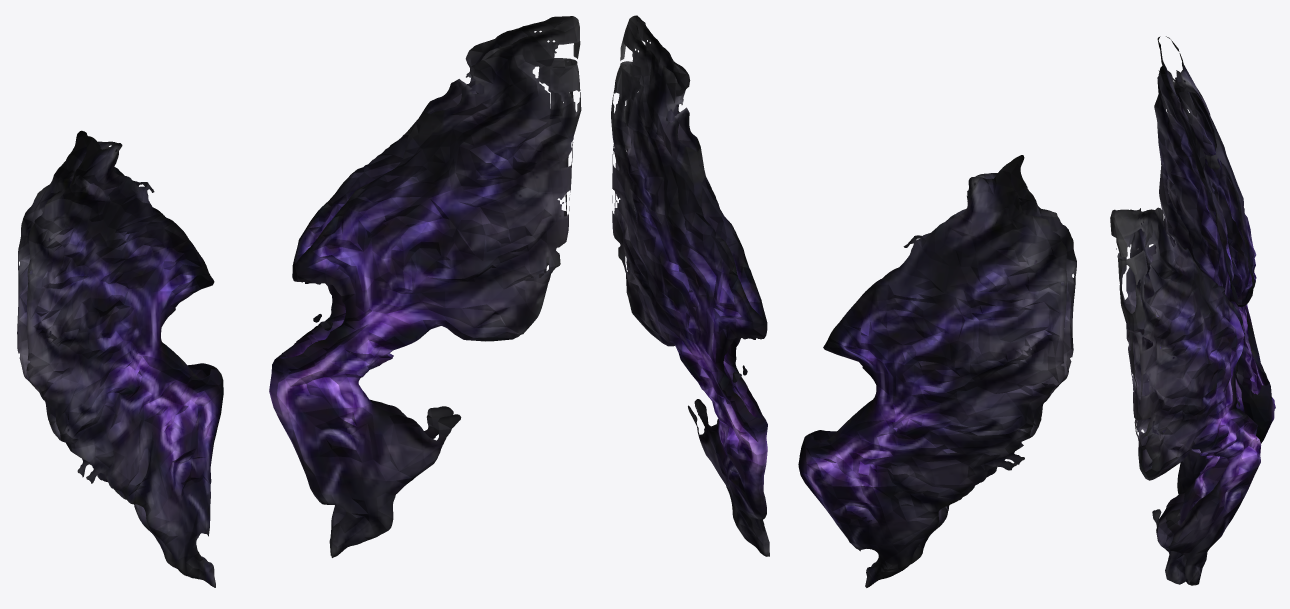
File: voidwings.glb
The picture shows the model from 3 angles, left to right: view 1: azimuth 30°, elevation 25°; view 2: azimuth 150°, elevation 25°; view 3: azimuth 270°, elevation 25°; orthographic projection. The views are drawn at different scales.
Parts seen in each view (by area): view 1: geometry_0; view 2: geometry_0; view 3: geometry_0.
Part boxes in pixels (x1,y1,x2,y2): geometry_0: (17,16,581,587); geometry_0: (611,15,1076,587); geometry_0: (1110,36,1275,585).
Bounding box in the file's own units: 0.9684 × 0.92 × 0.2935.
Materials: 1 (1 with a texture image).
